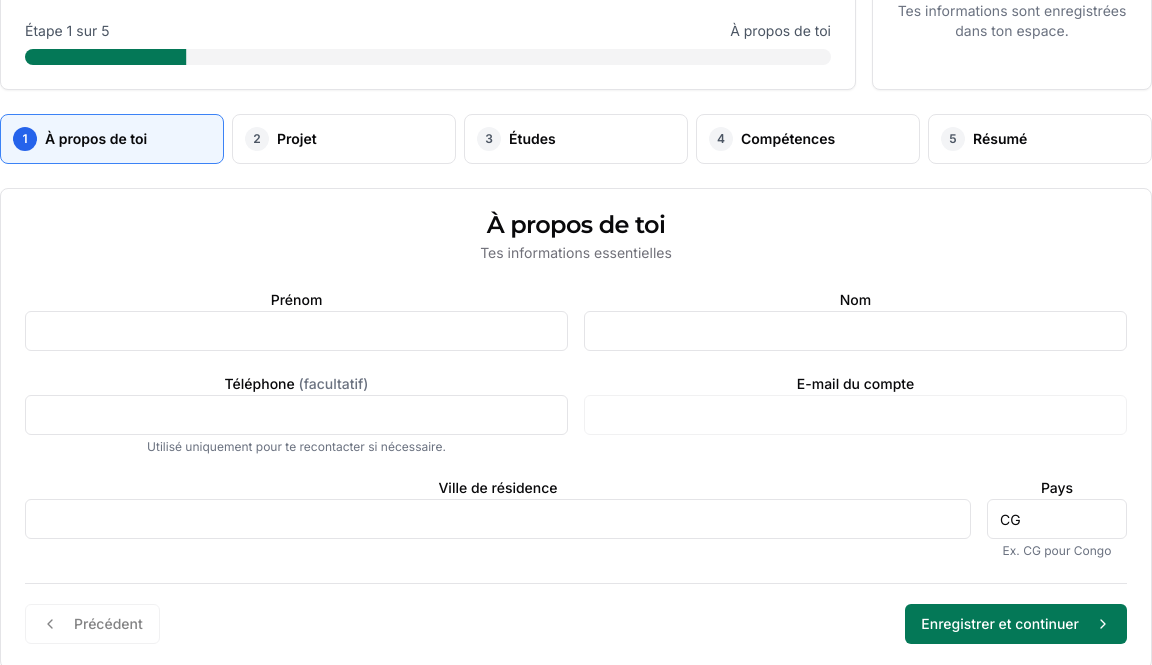
it: AdaptiveProfileWizard — issue #153, suppression réversible avec Annuler › retire une formation immédiatement puis la restaure via le bouton Annuler du toast
This screenshot has width=1152, height=665.
(page scrolled)
Click the button "Enregistrer et continuer": point(1016, 624) left=905, top=604, right=1127, bottom=644
(page scrolled)
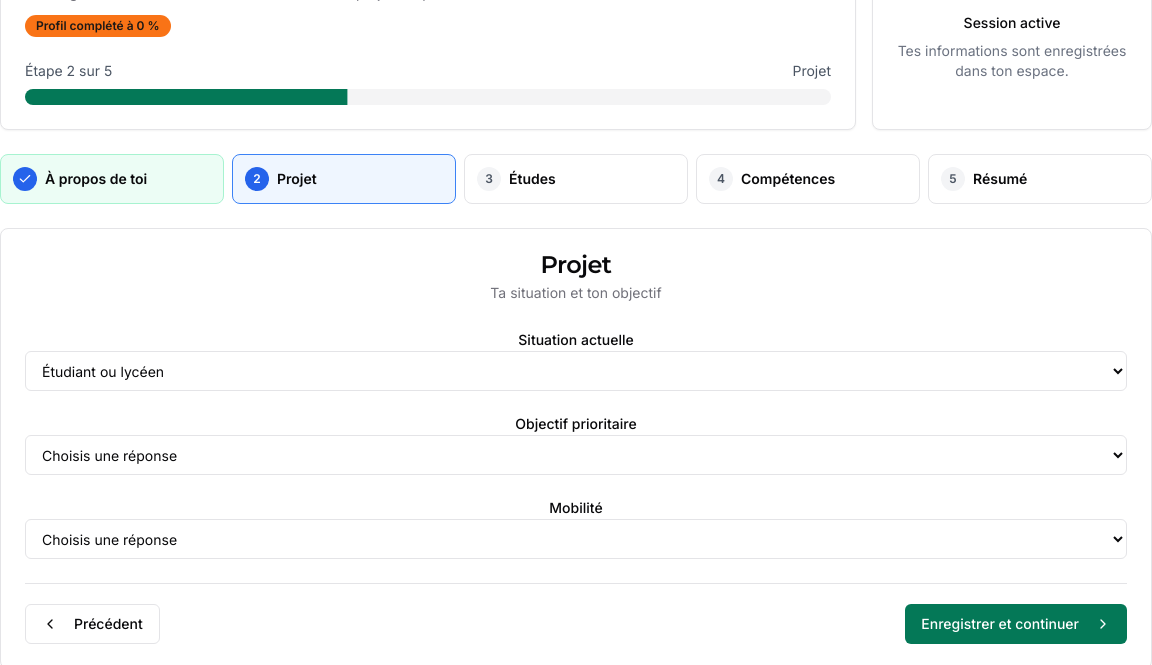
Click the button "Enregistrer et continuer": point(1016, 624) left=905, top=604, right=1127, bottom=644
(page scrolled)
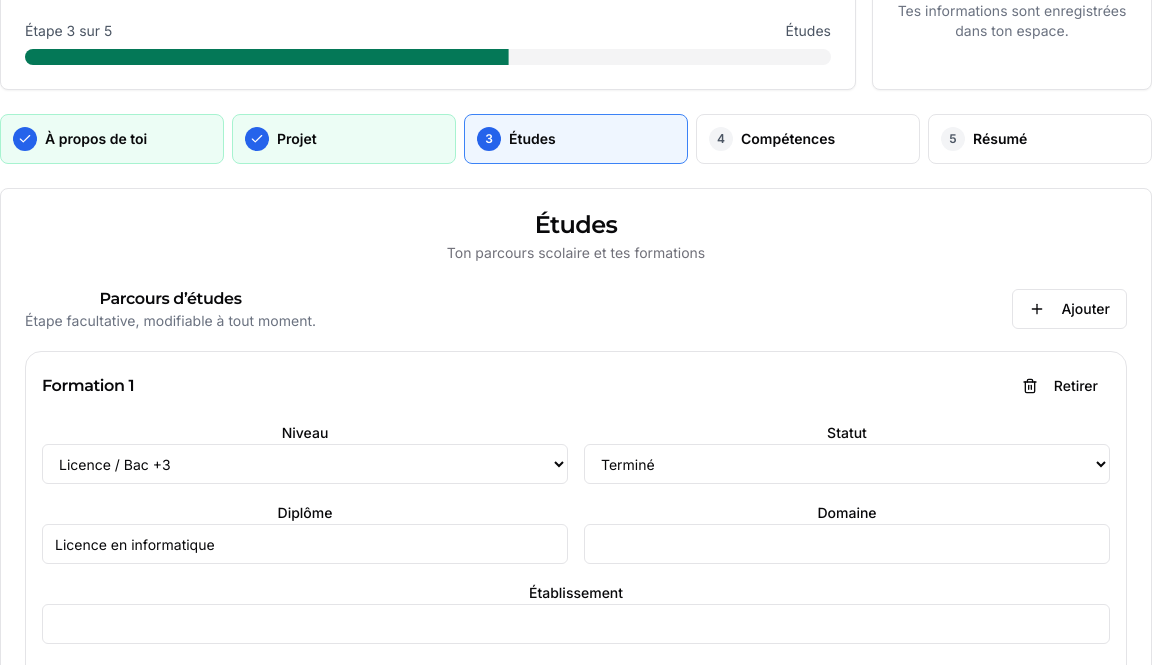
Expected: the heading "Études" is shown, left=535, top=210, right=617, bottom=239
Expected: the field showing "Licence en informatique" is shown, left=42, top=524, right=568, bottom=564
Click the button "Retirer": point(1060, 386) left=1010, top=368, right=1110, bottom=404
(page scrolled)
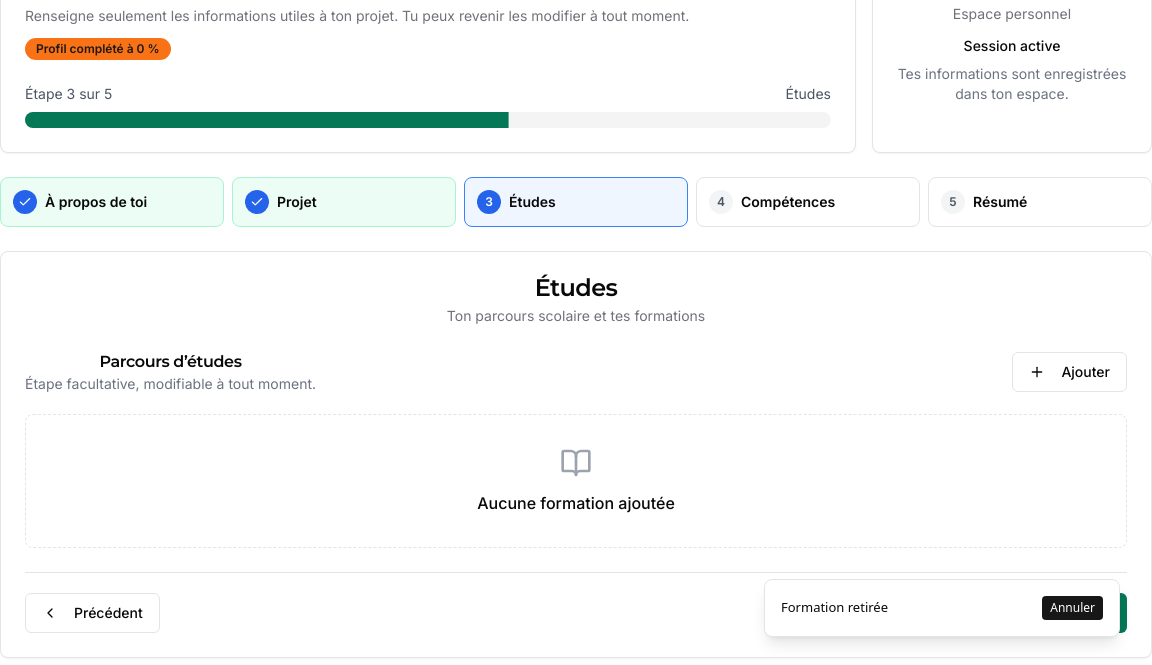
Expected: the field showing "Licence en informatique" is not shown
Click the button "Annuler": point(1073, 608) left=1042, top=596, right=1103, bottom=620
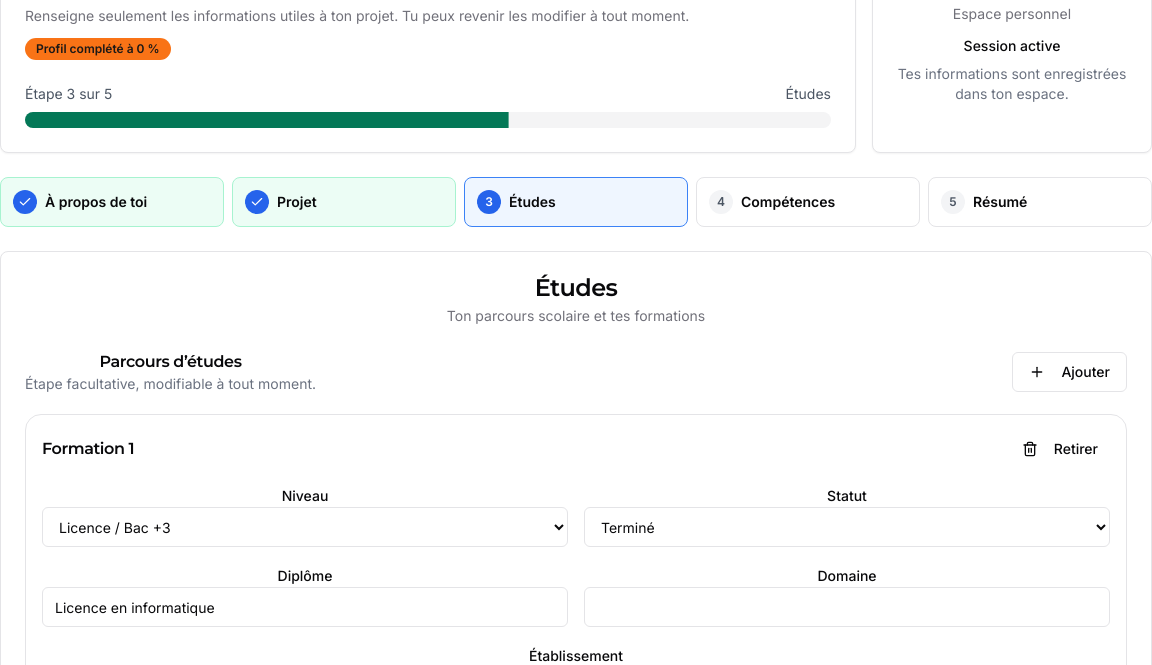
Expected: the field showing "Licence en informatique" is shown, left=42, top=587, right=568, bottom=627
